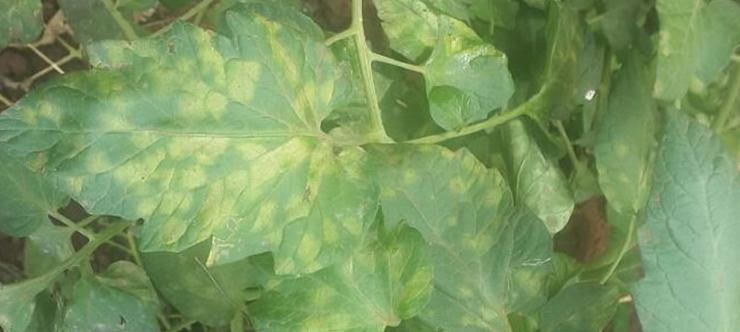Tomato mold leaf: (0, 6, 361, 278), (364, 143, 559, 332), (627, 105, 740, 332), (264, 204, 422, 332), (653, 0, 740, 98)
